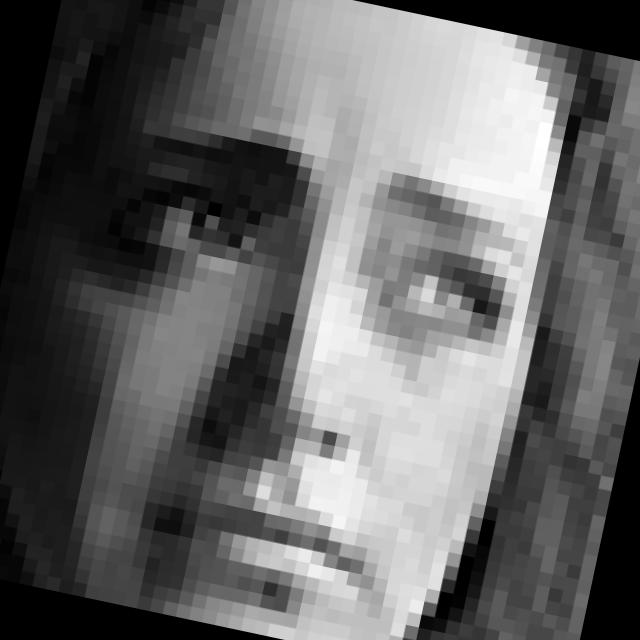sad: (43, 103, 554, 640)
